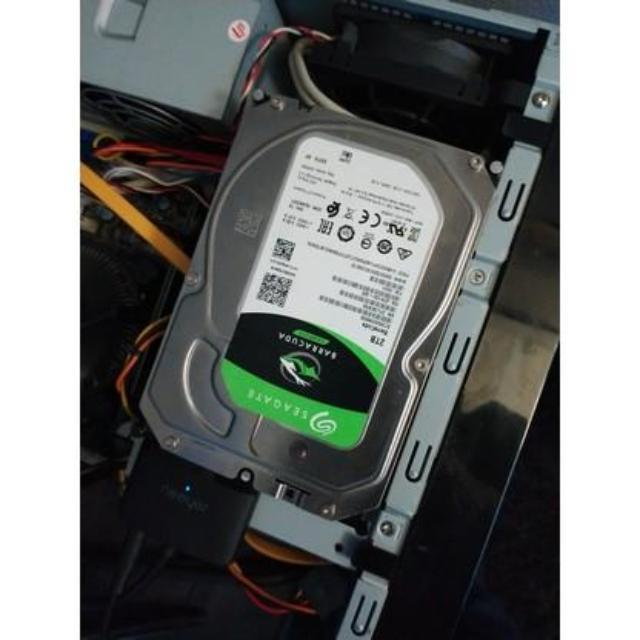DISK: (148, 90, 488, 508)
